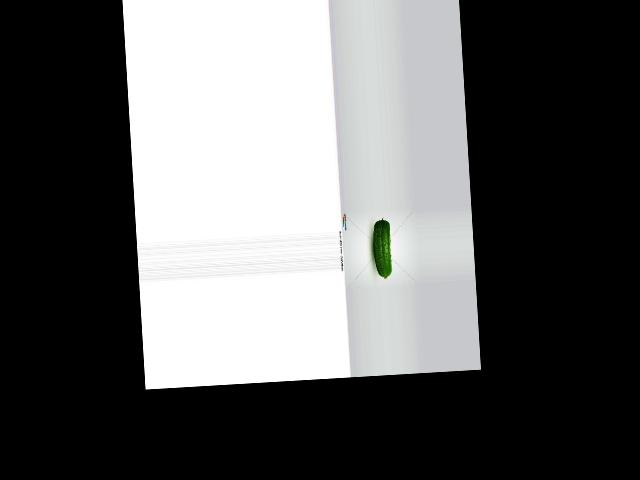cucumber: (371, 217, 392, 280)
